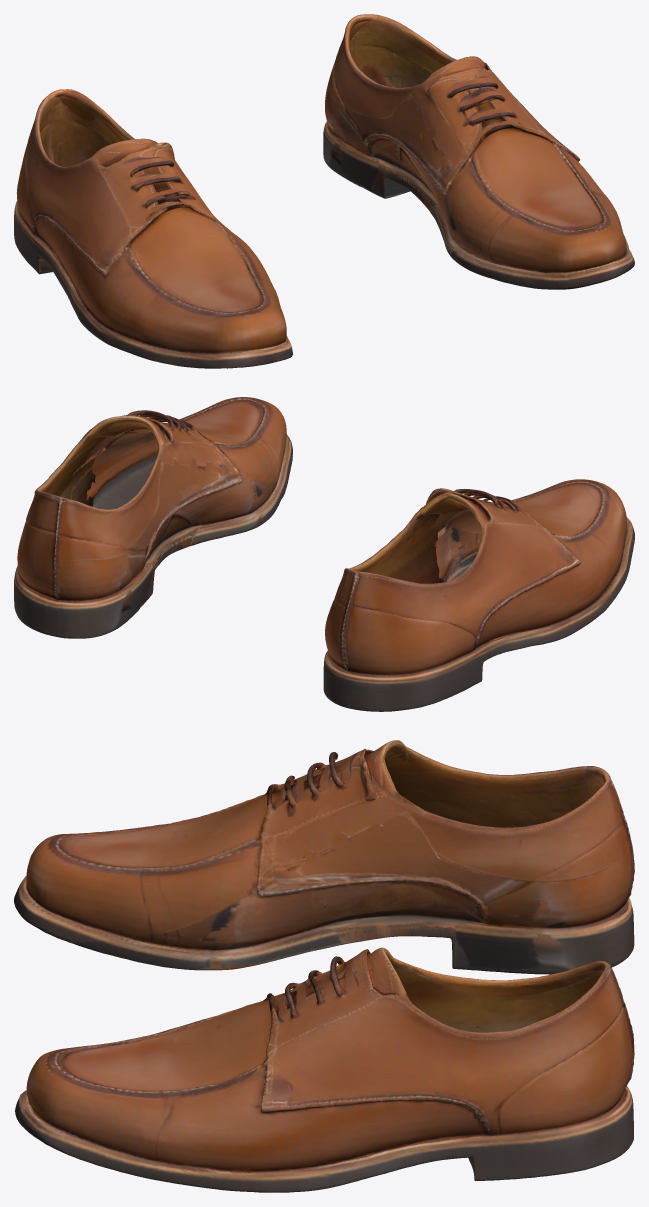
The model's file is sepatu.glb.
3 renders of one model, top to bottom at view 1: azimuth 30°, elevation 25°; view 2: azimuth 150°, elevation 25°; view 3: azimuth 270°, elevation 25°, orthographic. The views are drawn at different scales.
Size of the model in its own units: 2 by 0.5698 by 1.65.
1 material, 1 textured.
